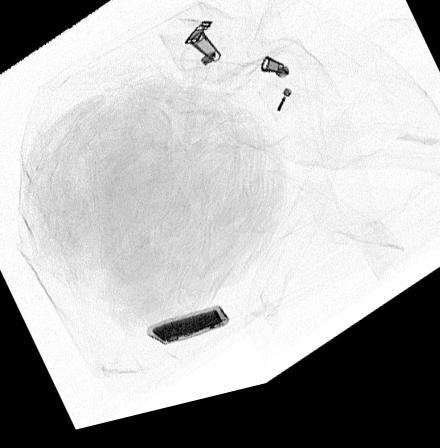Powerbank: (145, 315, 230, 353)
